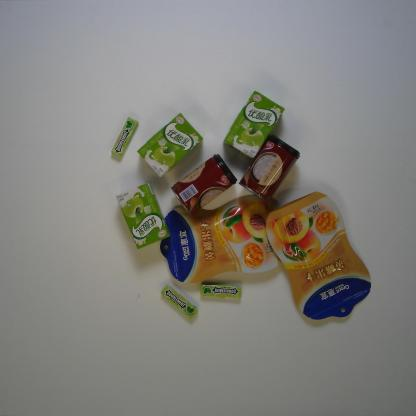Canned Food: (237, 134, 301, 202), (171, 153, 237, 215)
Dried Fruit: (265, 189, 373, 321), (158, 192, 282, 283)
Gum: (160, 284, 198, 320), (111, 117, 139, 157), (200, 284, 242, 300)
Milk: (136, 112, 205, 178), (223, 89, 286, 159), (115, 182, 171, 251)
